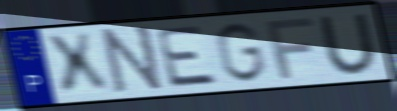E: (153, 23, 221, 90)
F: (263, 16, 316, 81)
G: (213, 21, 269, 85)
N: (100, 23, 165, 95)
U: (316, 11, 382, 76)
X: (42, 31, 114, 99)
